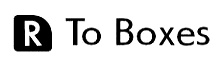r_to_boxes: (13, 14, 211, 52)
